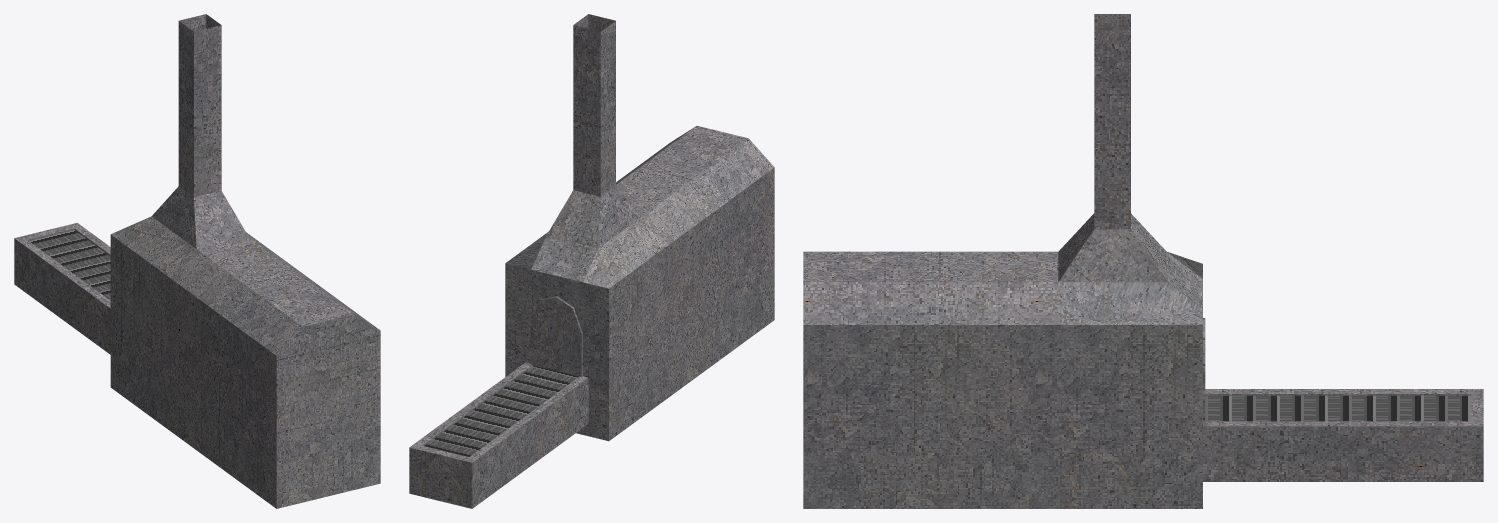
The model's file is crematorium.glb.
3 views of the same model, side by side, from view 1: azimuth 30°, elevation 25°; view 2: azimuth 150°, elevation 25°; view 3: azimuth 270°, elevation 25° (orthographic). The views are drawn at different scales.
Visible parts, largest first — view 1: Crematorium, Frame, ConveyorBelt; view 2: Crematorium, Frame, ConveyorBelt, DoorRight, DoorLeft; view 3: Crematorium, Frame, ConveyorBelt.
Boxes of the visible parts, x1,y1,x2,y2 form: Crematorium: (110, 14, 380, 508); Frame: (14, 223, 110, 354); ConveyorBelt: (29, 230, 110, 300); Crematorium: (505, 14, 774, 441); Frame: (409, 362, 588, 508); ConveyorBelt: (424, 365, 578, 456); DoorRight: (556, 296, 582, 376); DoorLeft: (530, 296, 556, 370); Crematorium: (803, 14, 1202, 508); Frame: (1203, 389, 1483, 481); ConveyorBelt: (1205, 395, 1471, 421).
Size of the model in its own units: 2 by 6.96 by 9.41.
Materials: 3 (3 with a texture image).
